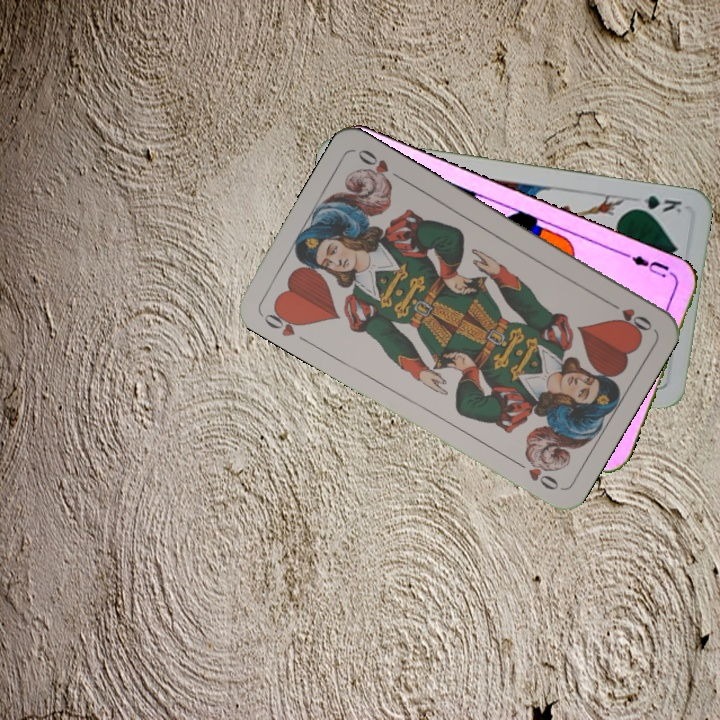EU: (621, 250, 672, 280)
GK: (627, 191, 684, 216)
HO: (602, 296, 655, 334), (257, 303, 307, 340)
